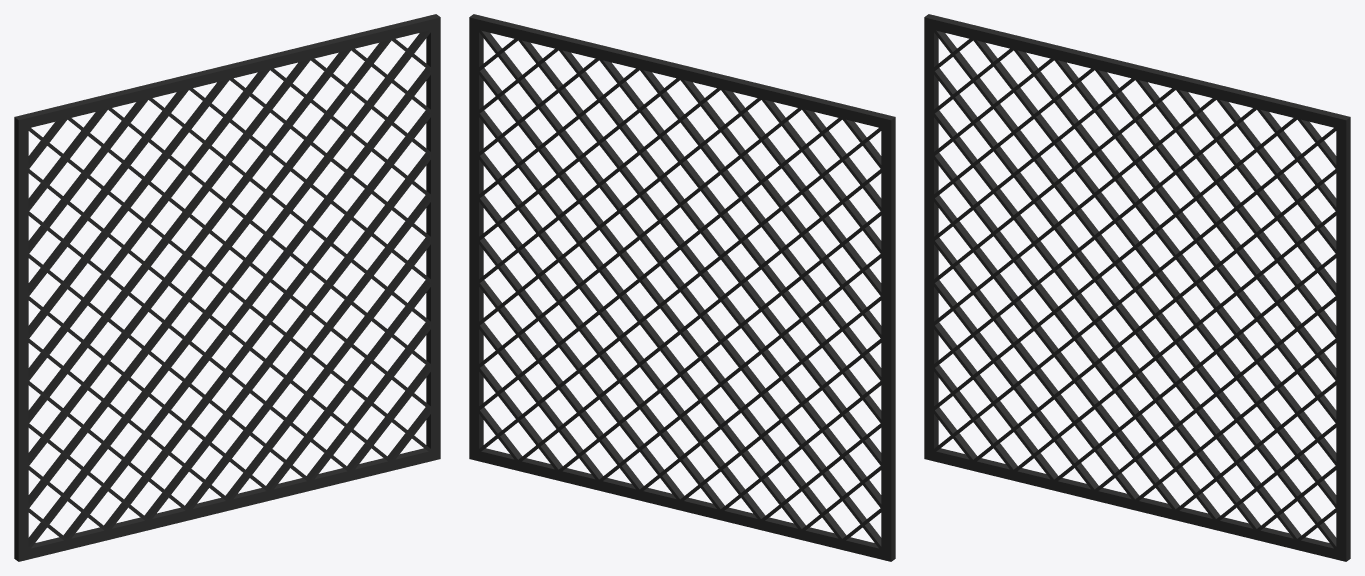
Rendered from fence.fbx.
3 views of the same model, side by side, from view 1: azimuth 30°, elevation 25°; view 2: azimuth 150°, elevation 25°; view 3: azimuth 330°, elevation 25° (orthographic).
Visible parts, largest first — view 1: pPlane1; view 2: pPlane1; view 3: pPlane1.
Boxes of the visible parts, left/top/right/bottom form: pPlane1: left=14, top=14, right=440, bottom=561; pPlane1: left=469, top=14, right=895, bottom=561; pPlane1: left=924, top=14, right=1350, bottom=561.
Bounding box in the file's own units: 15.3 × 15.3 × 0.2849.
